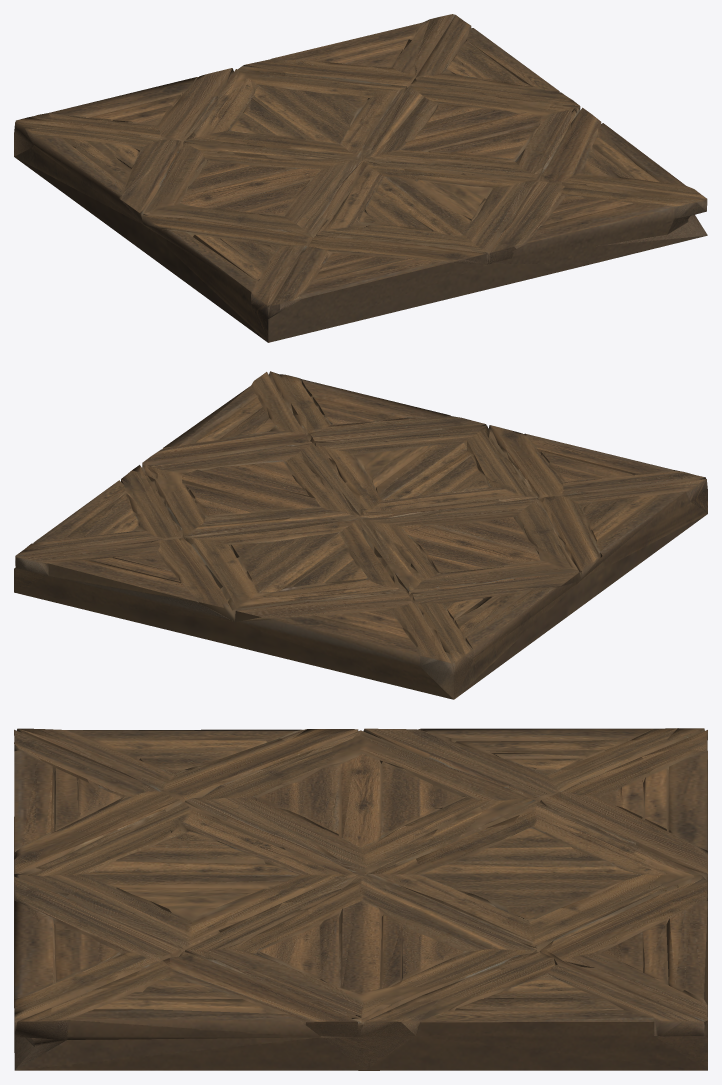
File: Wooden_floor.glb
3 views of the same model, one above another, from view 1: azimuth 30°, elevation 25°; view 2: azimuth 150°, elevation 25°; view 3: azimuth 270°, elevation 25° (orthographic). The views are drawn at different scales.
Parts seen in each view (by area): view 1: Mesh_0; view 2: Mesh_0; view 3: Mesh_0.
Part boxes in pixels (box(x1,y1,x2,y2)): Mesh_0: box(14, 14, 707, 342); Mesh_0: box(14, 371, 707, 699); Mesh_0: box(14, 728, 707, 1070).
Size of the model in its own units: 1.9 by 0.1543 by 1.9.
Materials: 1 (1 with a texture image).
